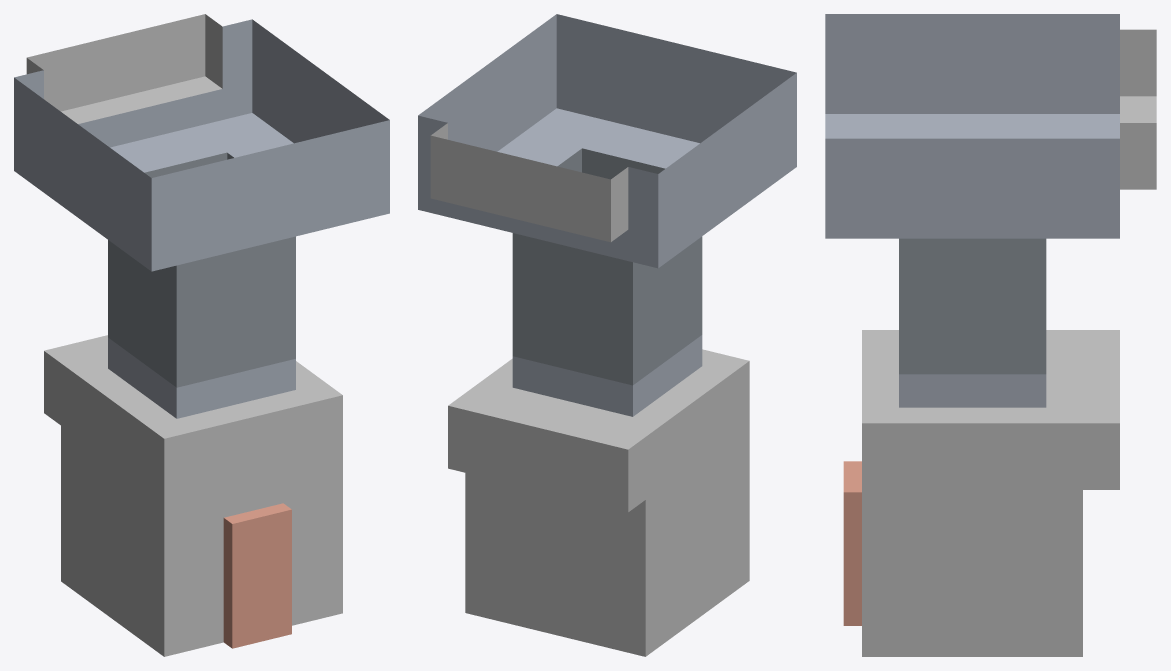
Rendered from cell_42.obj.
3 views of the same model, side by side, from view 1: azimuth 30°, elevation 25°; view 2: azimuth 150°, elevation 25°; view 3: azimuth 270°, elevation 25° (orthographic). The views are drawn at different scales.
Bounding box in the file's own units: 0.5 × 1 × 0.5625.
